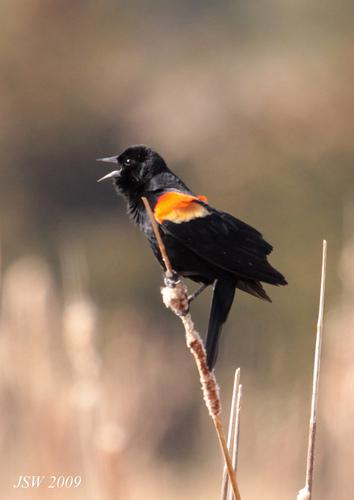010.Red_winged_Blackbird: (90, 146, 293, 374)
